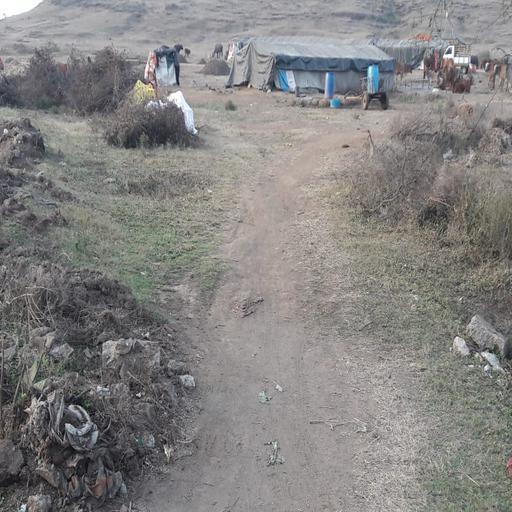vehicle_track: (121, 132, 416, 512)
